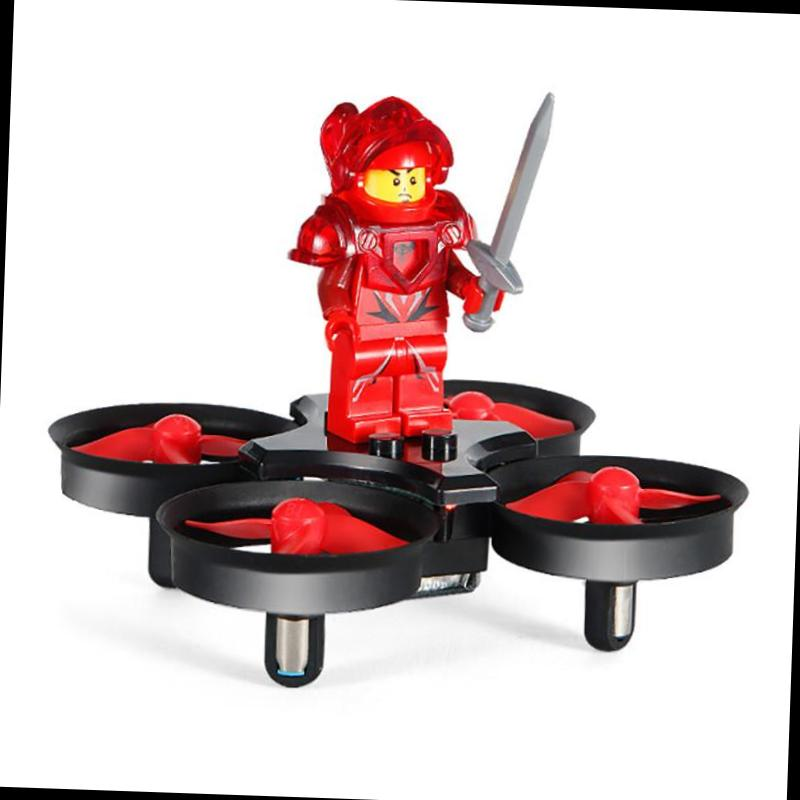drone: (19, 333, 762, 638)
